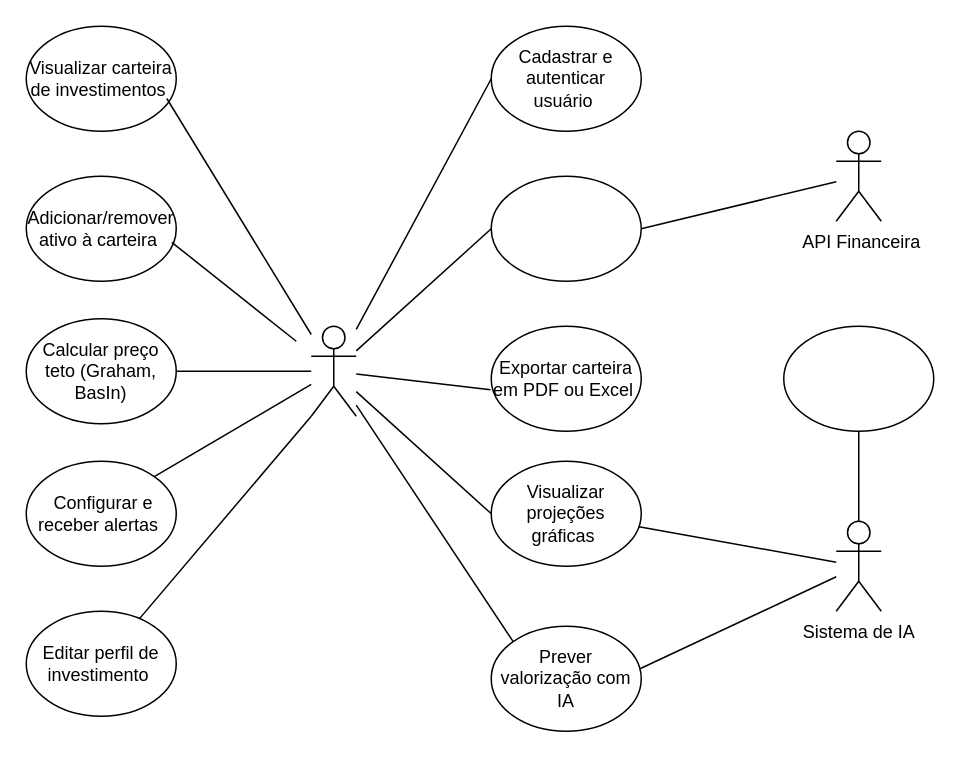
This 960x758 diagram has some shape labels left out. Each missing label, with the centre of its shape:
Analisar relatórios (RI): [858,378]
Consultar indicadores fundamentalistas: [565,228]
Usuário: [333,370]
